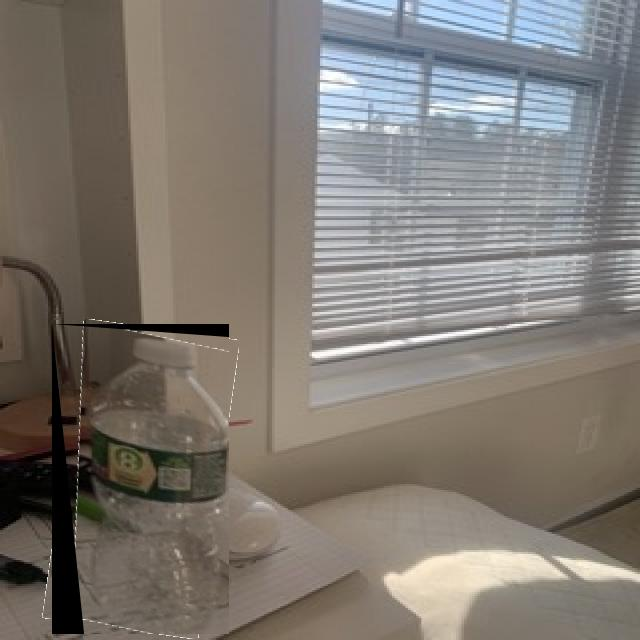water_bottle: (52, 324, 229, 634)
